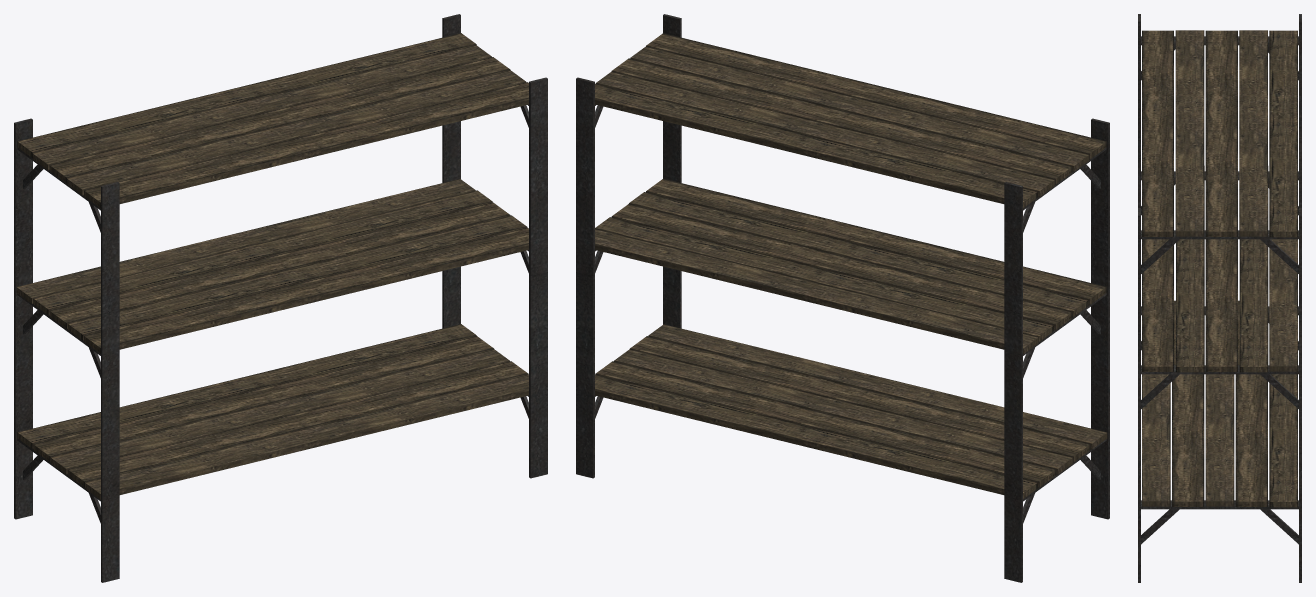
File: shelf_mx_2.obj
3 views of the same model, side by side, from view 1: azimuth 30°, elevation 25°; view 2: azimuth 150°, elevation 25°; view 3: azimuth 270°, elevation 25° (orthographic). The views are drawn at different scales.
Parts seen in each view (by area): view 1: shelf_mx_2; view 2: shelf_mx_2; view 3: shelf_mx_2.
Part boxes in pixels (<box>): shelf_mx_2: <box>14,14,547,582</box>; shelf_mx_2: <box>576,14,1109,582</box>; shelf_mx_2: <box>1138,14,1301,582</box>.
Bounding box in the file's own units: 1.6 × 1.36 × 0.55.
